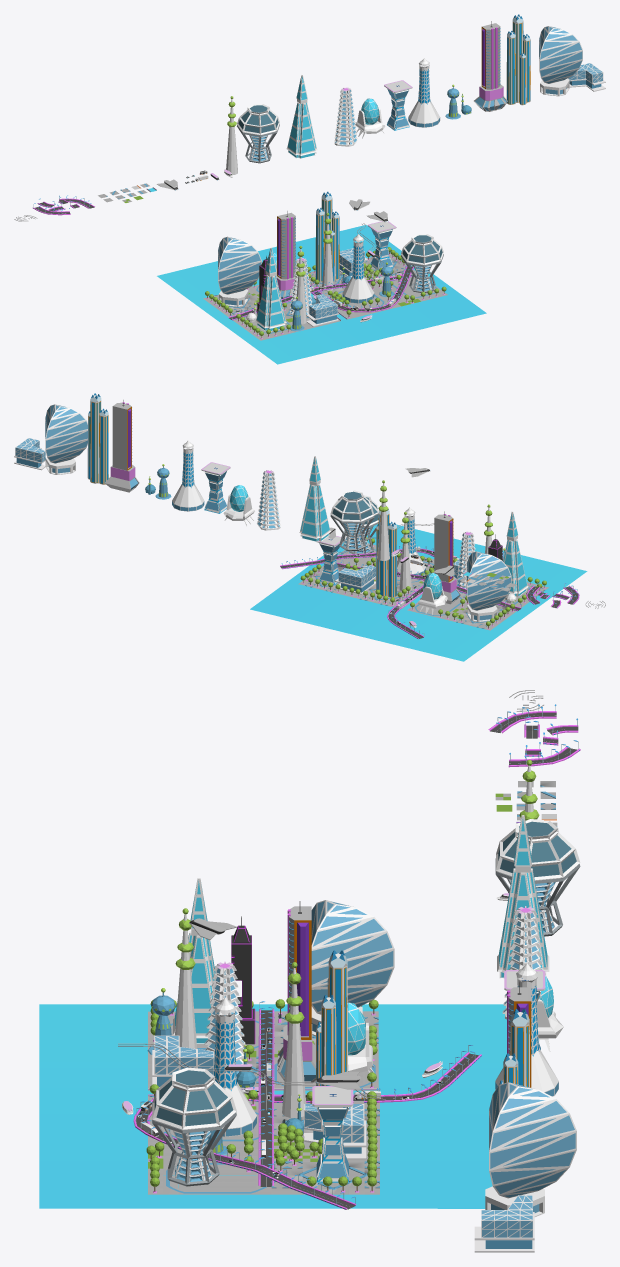
The model's file is future_city.glb.
3 views of the same model, one above another, from view 1: azimuth 30°, elevation 25°; view 2: azimuth 150°, elevation 25°; view 3: azimuth 270°, elevation 25° (orthographic). The views are drawn at different scales.
Parts seen in each view (by area): view 1: sea, Building, Building.023, Cube.002, Building.008, Building.009, Building.001, Building.014, Building.017, Building.013, Building.005, Building.010 (+11 smaller); view 2: sea, Building, Building.023, Building.008, Building.009, Cube.002, Building.017, Building.013, Building.014, Building.010, Building.005, Building.011 (+11 smaller); view 3: sea, Building, Building.001, Building.023, Building.009, Building.017, Building.014, Building.013, Building.028, Building.026, Building.003, Building.005 (+13 smaller).
Boxes of the visible parts, x1,y1,x2,y2 form: sea: [157, 225, 486, 364]; Building: [539, 26, 582, 96]; Building.023: [218, 236, 261, 306]; Cube.002: [506, 14, 530, 105]; Building.008: [474, 21, 507, 111]; Building.009: [237, 104, 279, 163]; Building.001: [401, 234, 443, 292]; Building.014: [315, 191, 339, 282]; Building.017: [276, 211, 295, 298]; Building.013: [286, 75, 317, 158]; Building.005: [255, 247, 286, 331]; Building.010: [408, 58, 440, 127]; sea: [250, 523, 587, 661]; Building: [45, 404, 87, 474]; Building.023: [467, 551, 511, 622]; Building.008: [105, 400, 139, 492]; Building.009: [330, 490, 374, 550]; Cube.002: [87, 393, 108, 484]; Building.017: [434, 511, 460, 604]; Building.013: [299, 456, 330, 541]; Building.014: [376, 509, 396, 597]; Building.010: [172, 440, 204, 511]; Building.005: [502, 511, 528, 596]; Building.011: [257, 470, 280, 530]; sea: [39, 1004, 506, 1208]; Building: [485, 1082, 576, 1216]; Building.001: [152, 1067, 236, 1186]; Building.023: [311, 900, 394, 1036]; Building.009: [495, 819, 580, 936]; Building.017: [277, 901, 315, 1083]; Building.014: [316, 950, 347, 1085]; Building.013: [497, 815, 549, 978]; Building.028: [474, 1195, 534, 1252]; Building.026: [312, 1086, 353, 1182]; Building.003: [213, 998, 256, 1137]; Building.005: [173, 878, 215, 1043].
Size of the model in its own units: 689 by 199 by 280.
1 material, 1 textured.
